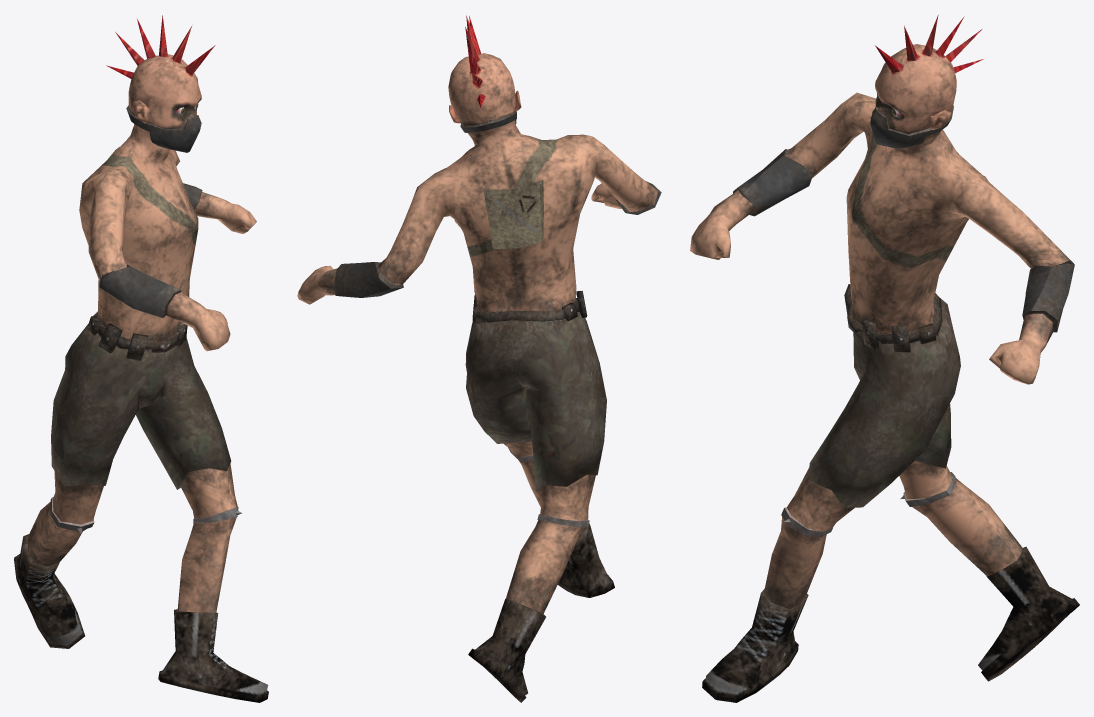
File: Anim_ataque_f1_npc2.0015.obj
3 renders of one model, left to right at view 1: azimuth 30°, elevation 25°; view 2: azimuth 150°, elevation 25°; view 3: azimuth 270°, elevation 25°, orthographic. The views are drawn at different scales.
Visible parts, largest first — view 1: polySurface1; view 2: polySurface1; view 3: polySurface1.
Boxes of the visible parts, x1=… form: polySurface1: x1=14, y1=15, x2=268, y2=702; polySurface1: x1=297, y1=15, x2=661, y2=702; polySurface1: x1=690, y1=15, x2=1079, y2=702.
Bounding box in the file's own units: 4.23 × 10 × 5.
